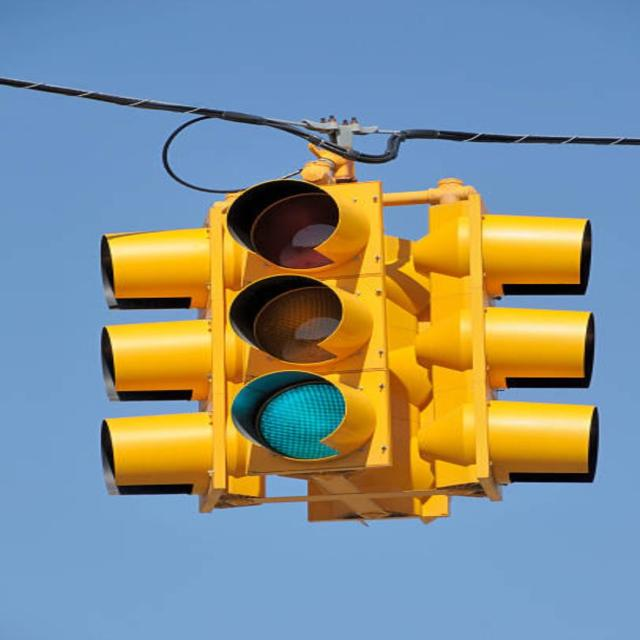green: (235, 372, 387, 459)
